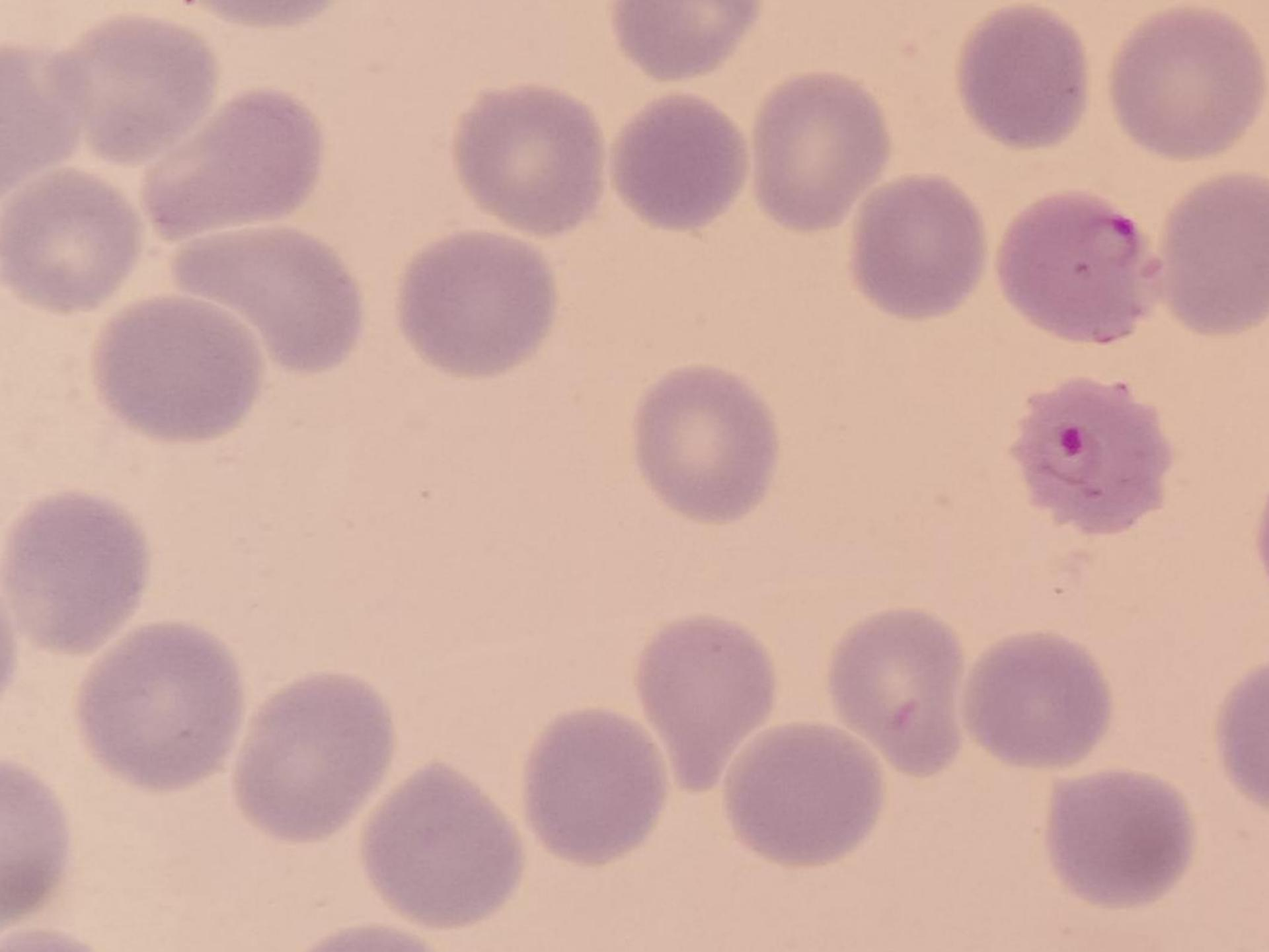Infected: (996, 190, 1160, 348), (1011, 375, 1173, 533)
Uninfected: (169, 220, 362, 374), (137, 86, 322, 246), (73, 628, 243, 792), (235, 669, 395, 841), (365, 760, 524, 928), (93, 296, 261, 443), (0, 491, 152, 652), (639, 615, 774, 795), (51, 20, 219, 162), (725, 722, 886, 866), (1109, 10, 1263, 160), (753, 71, 893, 234), (828, 605, 959, 779), (399, 230, 551, 377), (636, 364, 777, 522), (530, 707, 670, 865), (454, 86, 602, 234), (0, 165, 144, 312), (608, 91, 751, 233), (848, 179, 985, 322), (1049, 772, 1194, 907), (970, 631, 1104, 772), (957, 7, 1088, 147), (1162, 169, 1269, 336)
